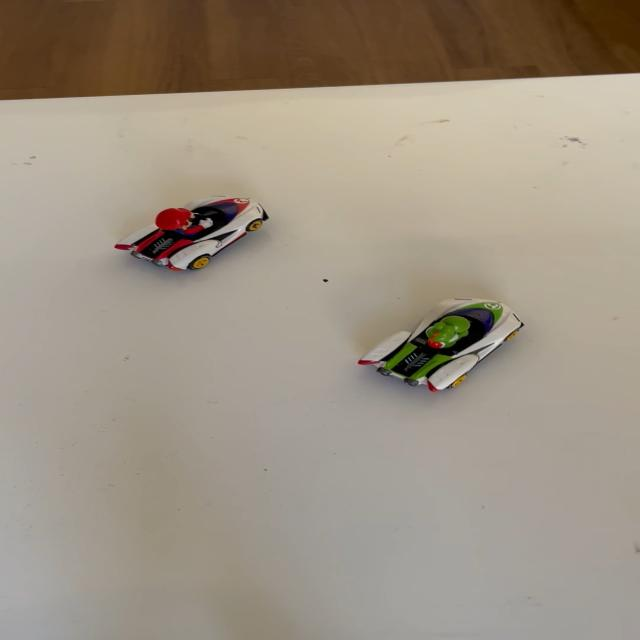mario: (100, 194, 282, 283)
yoshi: (338, 294, 538, 404)
